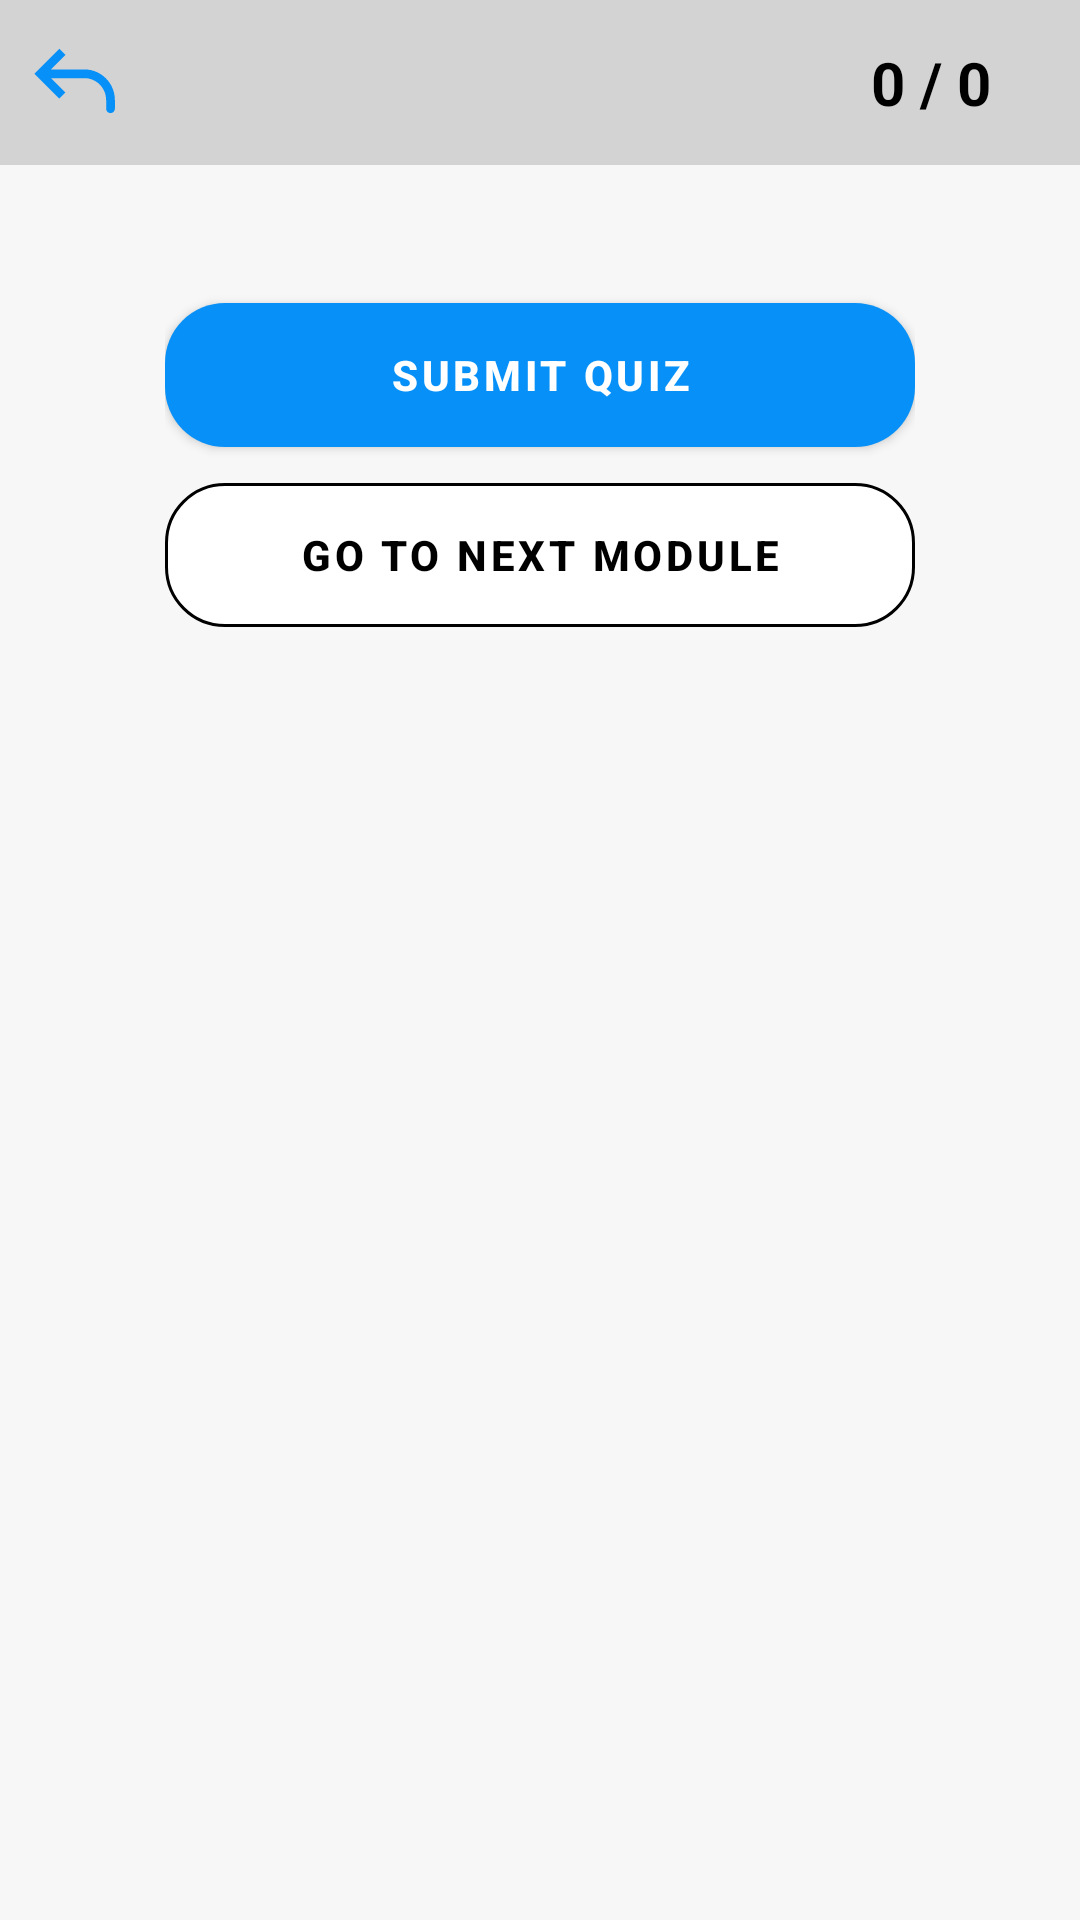

Where icons sit on this 1080 x 1920 app screen, as (x1, y1, x2, y2):
back: (34, 49, 115, 113)
